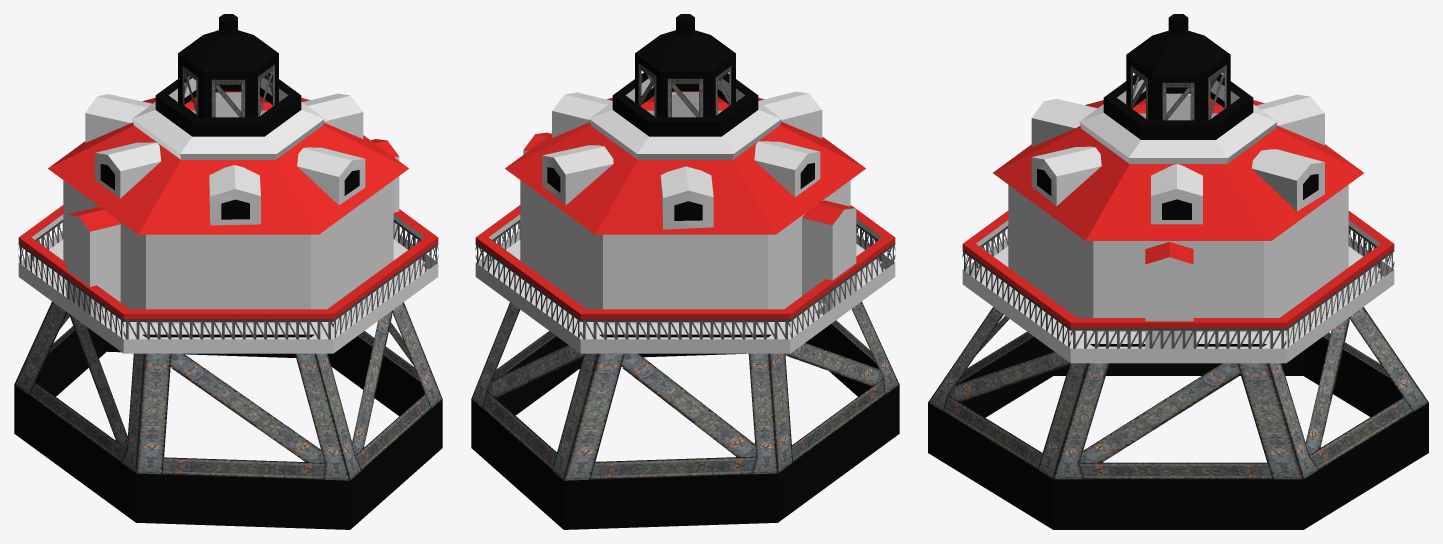
The model's file is ThomasPoint.glb.
3 renders of one model, left to right at view 1: azimuth 30°, elevation 25°; view 2: azimuth 150°, elevation 25°; view 3: azimuth 270°, elevation 25°, orthographic. The views are drawn at different scales.
Visible parts, largest first — view 1: Cylinder; view 2: Cylinder; view 3: Cylinder.
Boxes of the visible parts, x1,y1,x2,y2 form: Cylinder: [14, 14, 442, 529]; Cylinder: [471, 14, 899, 529]; Cylinder: [928, 14, 1428, 529].
Size of the model in its own units: 3.25 by 4.17 by 4.35.
Materials: 4 (1 with a texture image).
